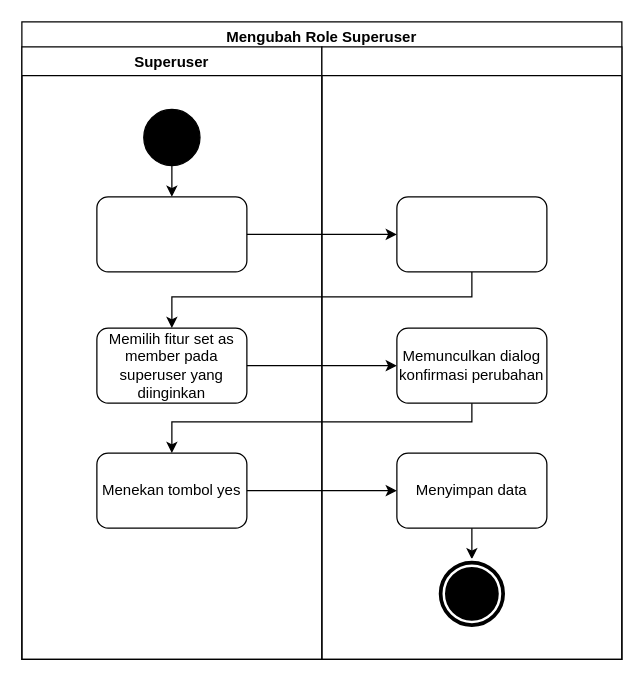
Image size: 644x681. Some labels were removed from this diagram. Here are the shapes that lost their labels. From the top down, the box of each, then its label:
(96, 196, 247, 272): Membuka halaman daftar user
(396, 196, 547, 272): Menampilkan daftar user yang terdaftar
(321, 46, 622, 659): Sistem
